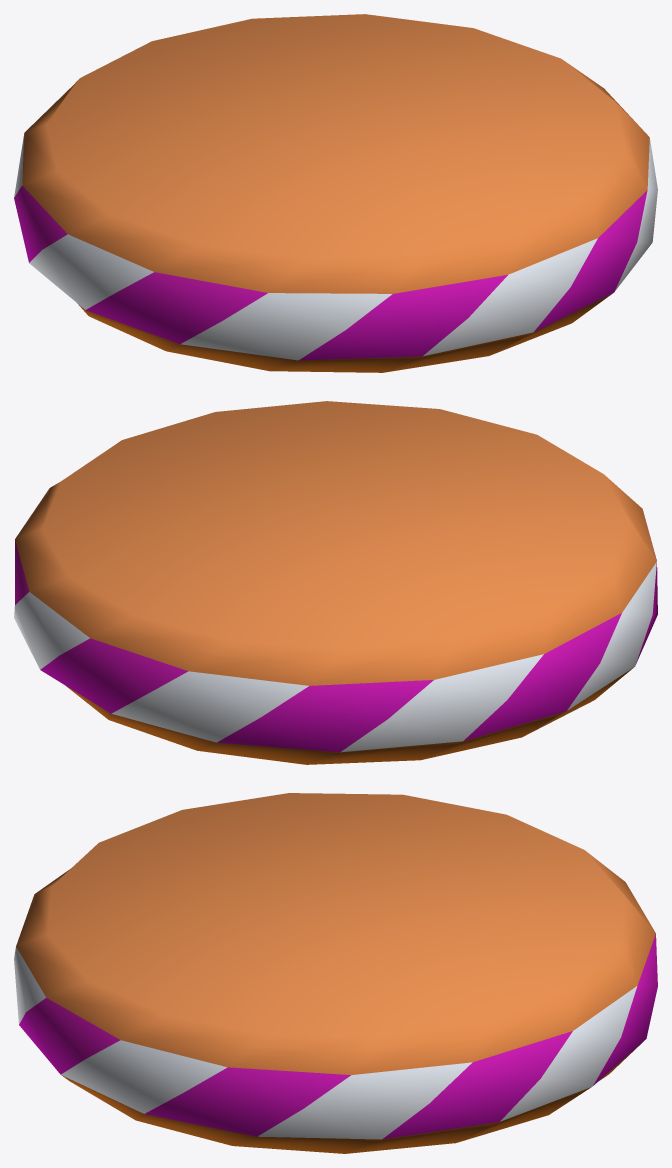
The model's file is CandyTowerCap_01.glb.
3 renders of one model, top to bottom at view 1: azimuth 30°, elevation 25°; view 2: azimuth 150°, elevation 25°; view 3: azimuth 270°, elevation 25°, orthographic.
Visible parts, largest first — view 1: CandyTowerCap_01; view 2: CandyTowerCap_01; view 3: CandyTowerCap_01.
Boxes of the visible parts, bbox=[...] form: CandyTowerCap_01: bbox=[14, 14, 657, 372]; CandyTowerCap_01: bbox=[14, 401, 657, 764]; CandyTowerCap_01: bbox=[14, 793, 657, 1153].
Bounding box in the file's own units: 2.95 × 0.9657 × 2.95.
Materials: 1 (1 with a texture image).
